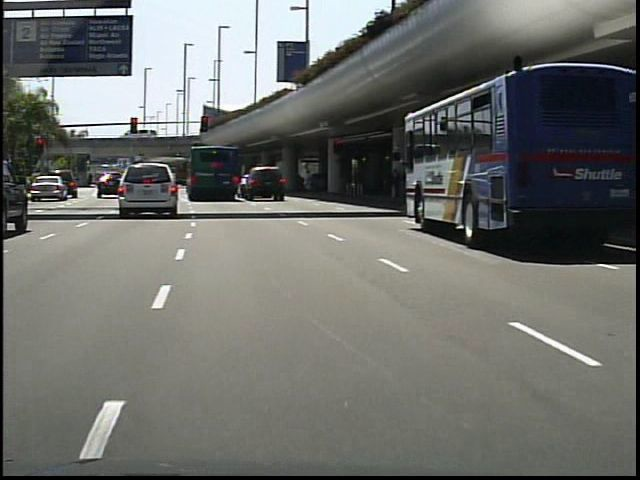person: (304, 162, 324, 199)
